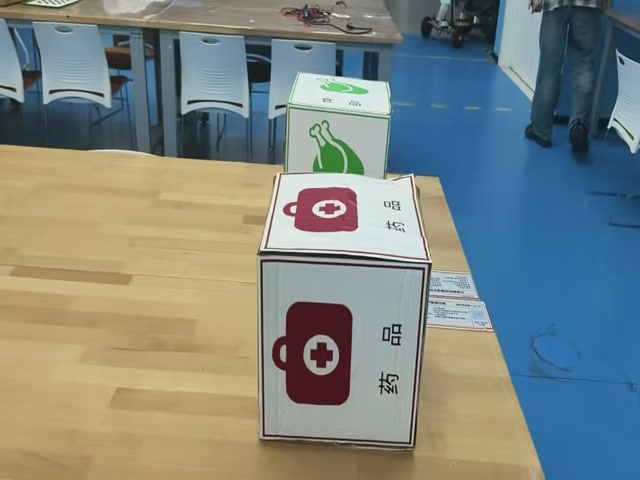Cube_food: (286, 74, 393, 121)
Cube_medicine: (255, 173, 428, 268)
